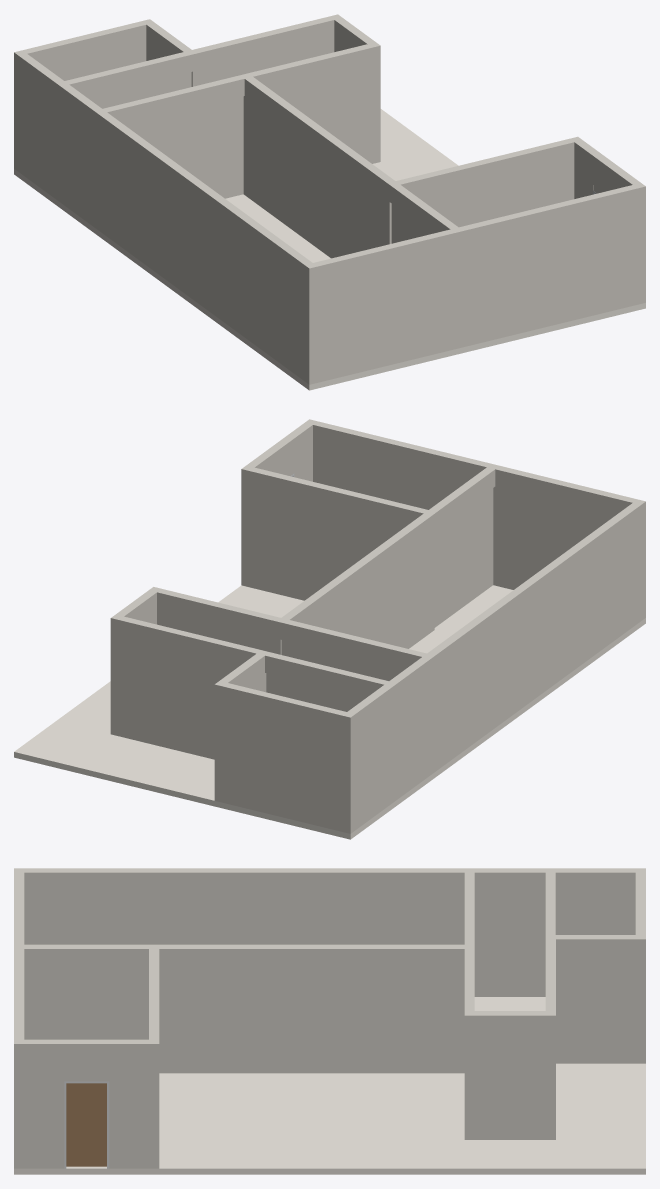
3 renders of one model, top to bottom at view 1: azimuth 30°, elevation 25°; view 2: azimuth 150°, elevation 25°; view 3: azimuth 270°, elevation 25°, orthographic. The views are drawn at different scales.
Visible parts, largest first — view 1: Walls, Beams, Floor; view 2: Walls, Floor, Beams; view 3: Walls, Floor, Beams, Doors, Frames.
Part boxes in pixels (left/top/right/bottom): Walls: left=14, top=14, right=645, bottom=384; Beams: left=14, top=14, right=645, bottom=268; Floor: left=14, top=109, right=645, bottom=390; Walls: left=110, top=419, right=645, bottom=833; Floor: left=14, top=585, right=645, bottom=839; Beams: left=118, top=420, right=643, bottom=716; Walls: left=14, top=868, right=645, bottom=1168; Floor: left=14, top=997, right=645, bottom=1174; Beams: left=14, top=868, right=645, bottom=1043; Doors: left=66, top=1083, right=106, bottom=1166; Frames: left=64, top=1081, right=109, bottom=1168.
Size of the model in its own units: 9.23 by 3.2 by 14.03.
